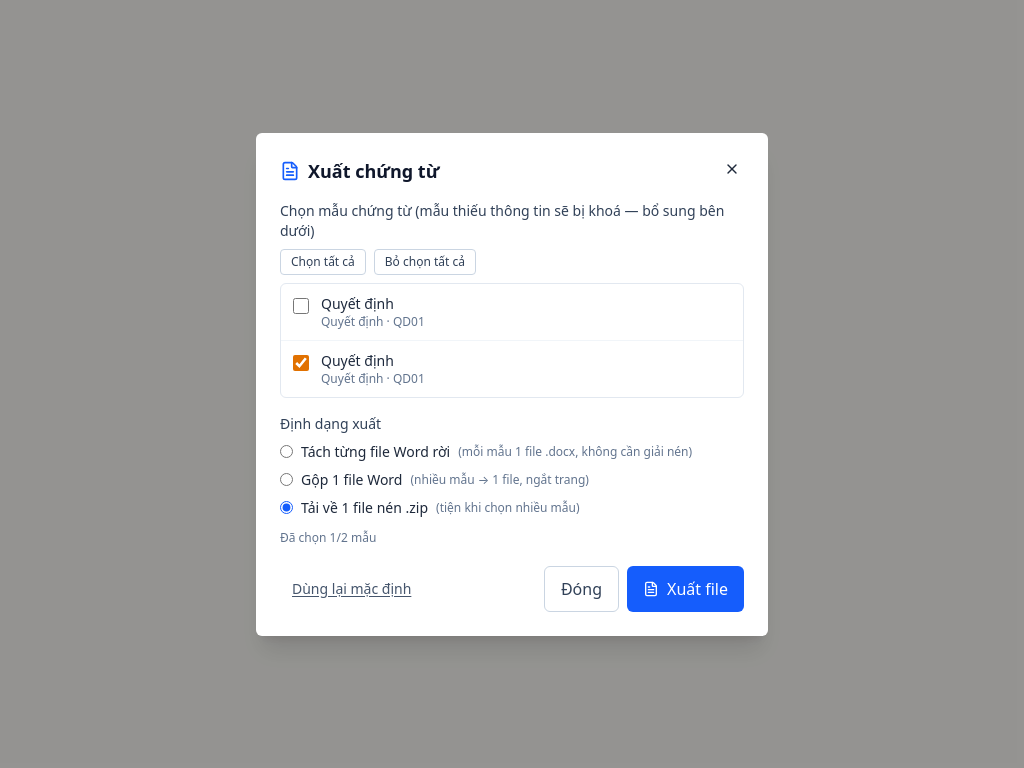
Test: Nhớ lựa chọn in chứng từ › nút "Dùng lại mặc định" xoá bản ghi cá nhân và tích lại theo cờ admin
The width and height of the screenshot is (1024, 768).
Check: the checkbox with test id "dyn-export-checkbox-t1" is shown, box 293,298 -> 309,314
Click the button with test id "dyn-export-reset-pref".
click(352, 588)  # box 280,566 -> 423,612
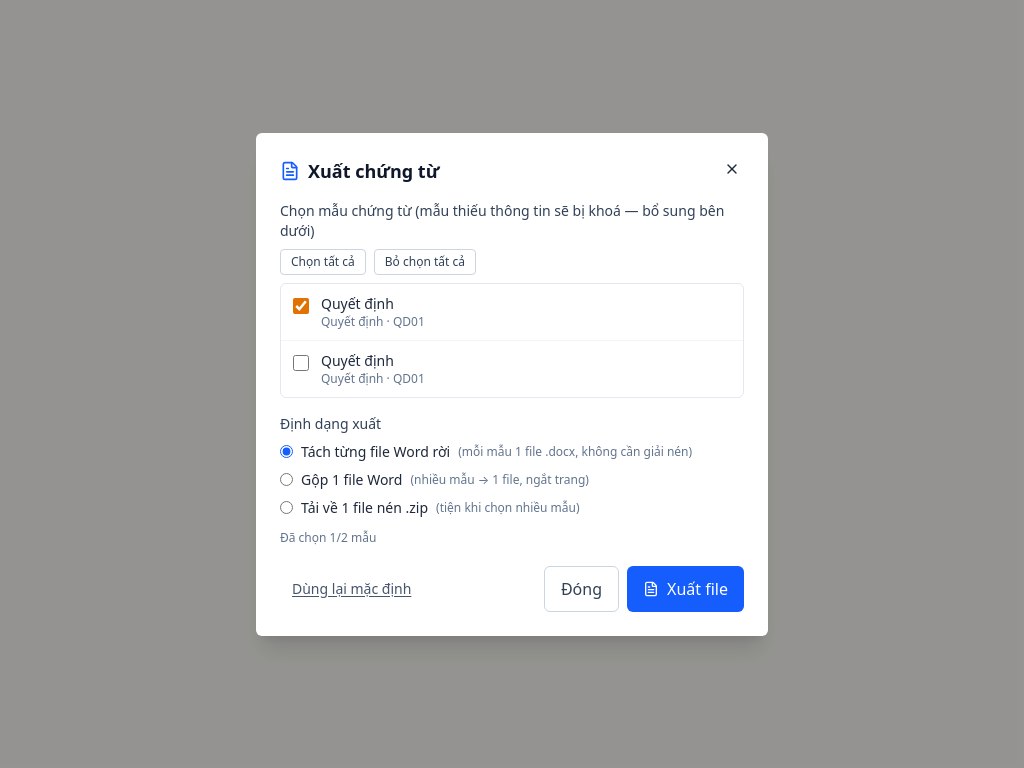
Check: the checkbox with test id "dyn-export-checkbox-t1" is checked, box 293,298 -> 309,314
Check: the radio button with test id "dyn-export-mode-separate" is checked, box 280,445 -> 293,458
